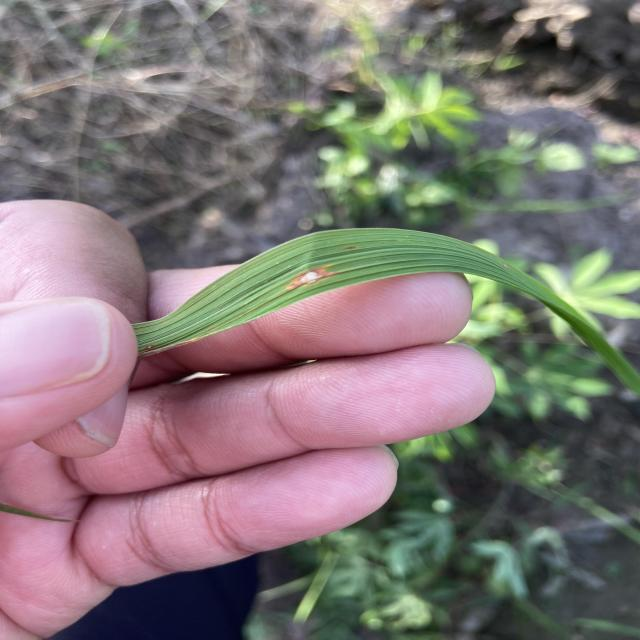Dao on: (291, 269, 331, 288)
